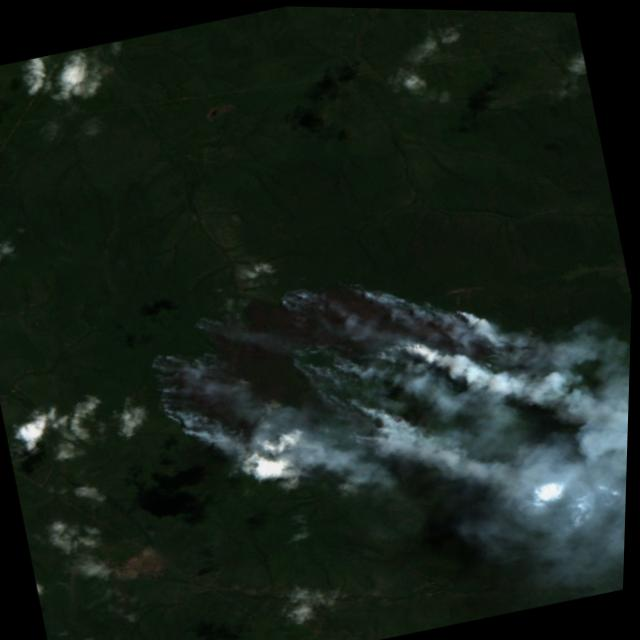fire: (128, 226, 555, 528)
